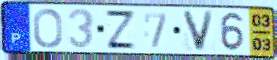3: (66, 7, 97, 51)
6: (219, 11, 246, 53)
7: (142, 12, 168, 48)
O: (32, 7, 64, 50)
V: (180, 9, 216, 53)
Z: (104, 9, 137, 51)
